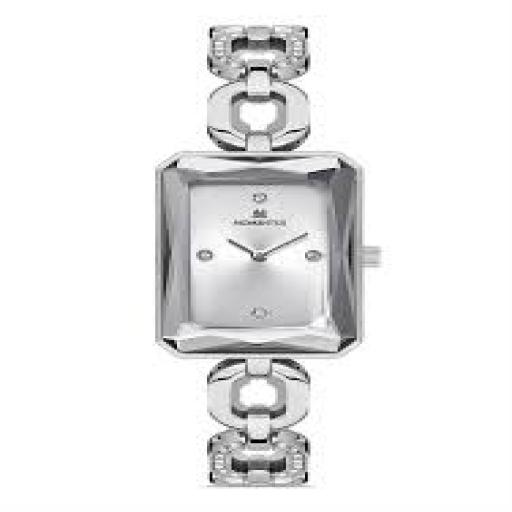KolSaati: (136, 18, 402, 496)
